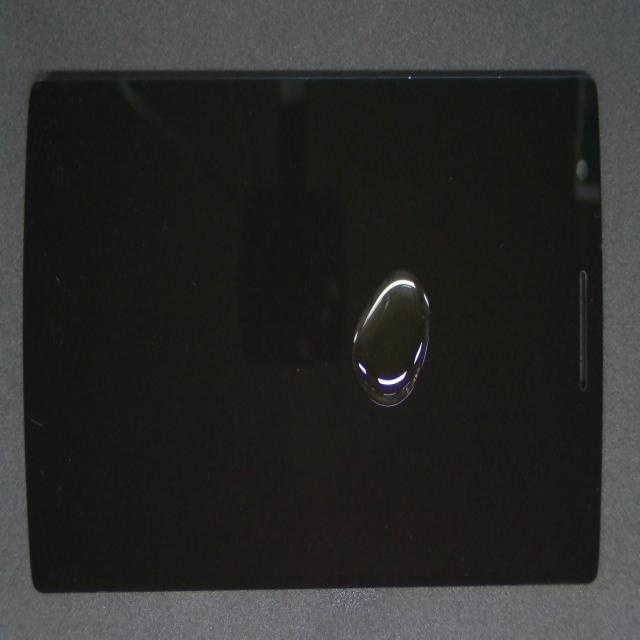oil: (229, 138, 617, 399)
